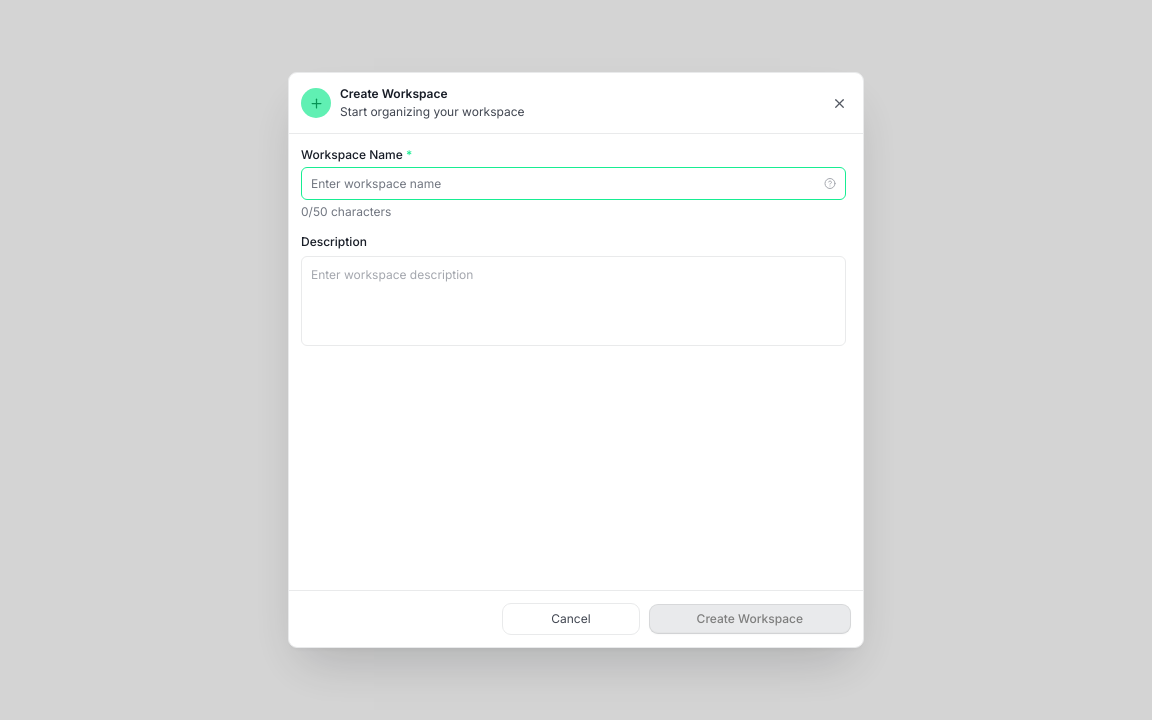
Test: CreateWorkspaceModal › form validation › displays character count
This screenshot has width=1152, height=720.
In the field labelled "Workspace Name *": (573, 184) 301,167 -> 846,200, type "Test"
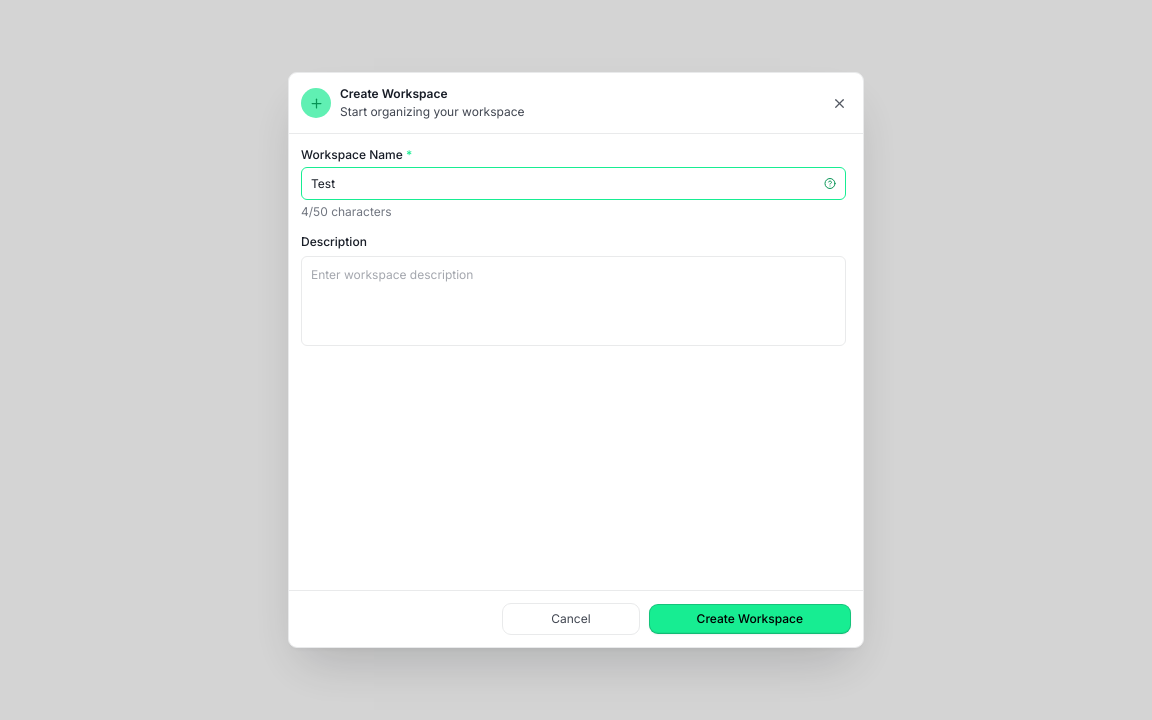
expect the text "4/50 characters" is shown: met, box 301,204 -> 392,219
